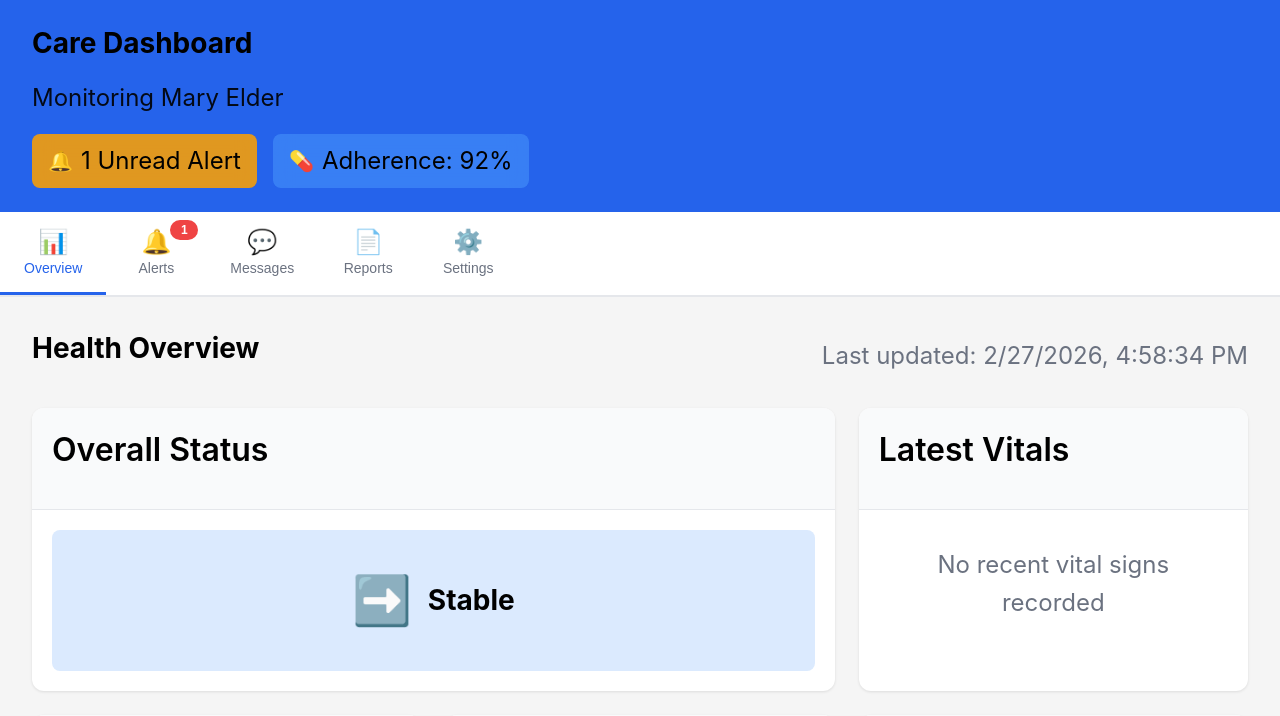
Test: SecondaryUserDashboard › renders all widget components based on active view
Expected: the heading "Health Overview" is shown, 32,329 -> 259,368
Switch to Alerts
Step 1. Click the tab "🔔 Alerts 1" → {"x": 156, "y": 254}, box 106,212 -> 206,295
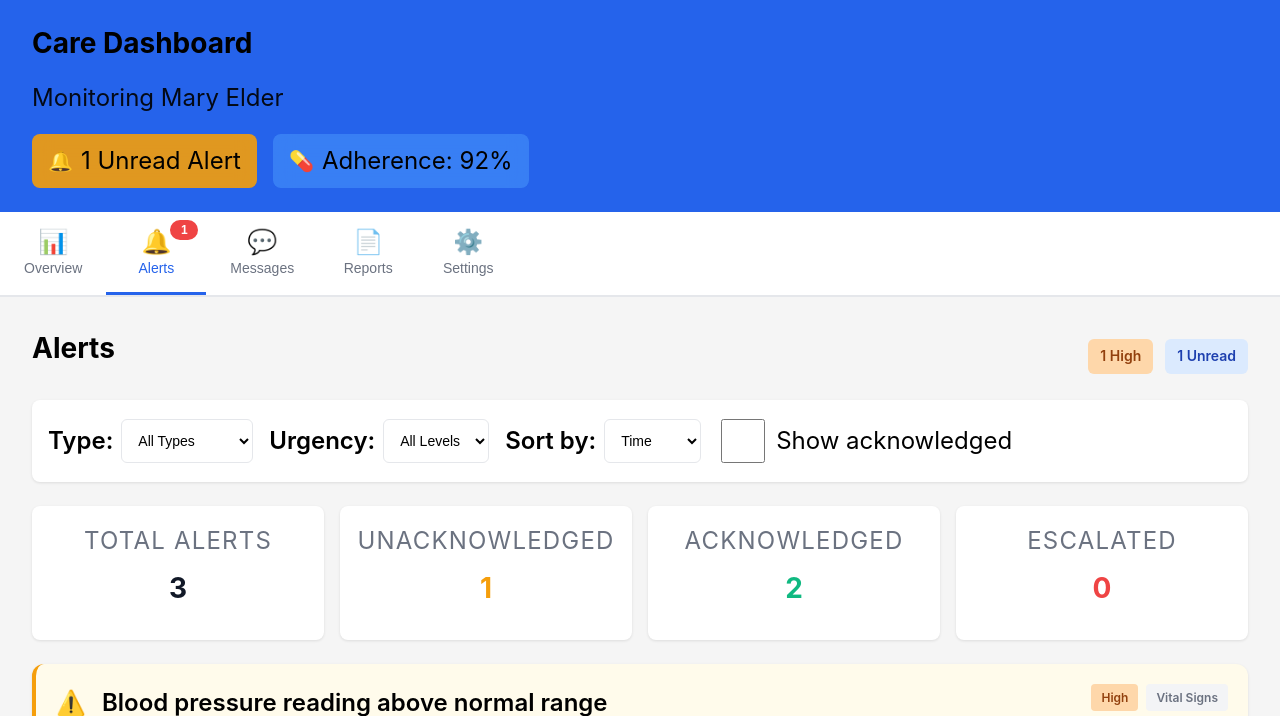
Expected: the heading "Alerts" is shown, 32,329 -> 115,368
Switch to Messages
Step 2. Click the tab "💬 Messages" → {"x": 262, "y": 254}, box 206,212 -> 318,295
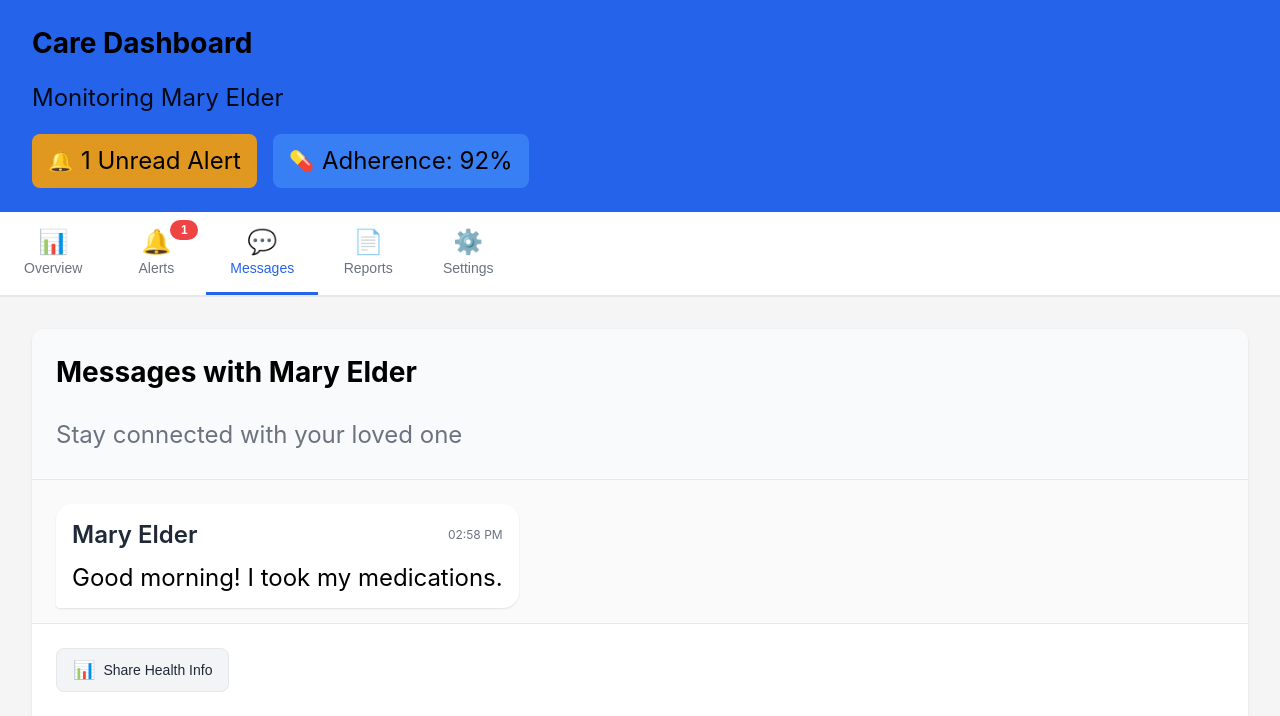
Expected: the heading "Messages with Mary Elder" is shown, 56,353 -> 417,392
Switch to Reports
Step 3. Click the tab "📄 Reports" → {"x": 368, "y": 254}, box 318,212 -> 418,295
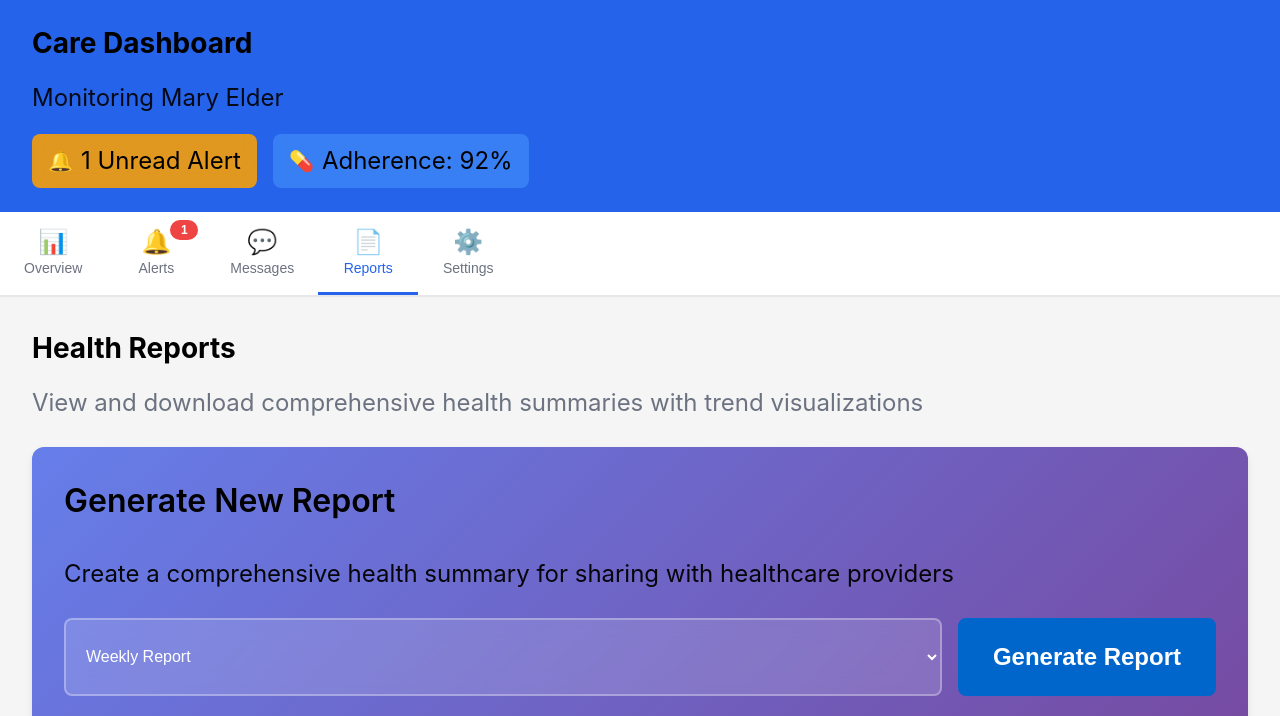
Expected: the heading "Health Reports" is shown, 32,331 -> 236,365
Switch to Settings
Step 4. Click the tab "⚙️ Settings" → {"x": 468, "y": 254}, box 418,212 -> 518,295
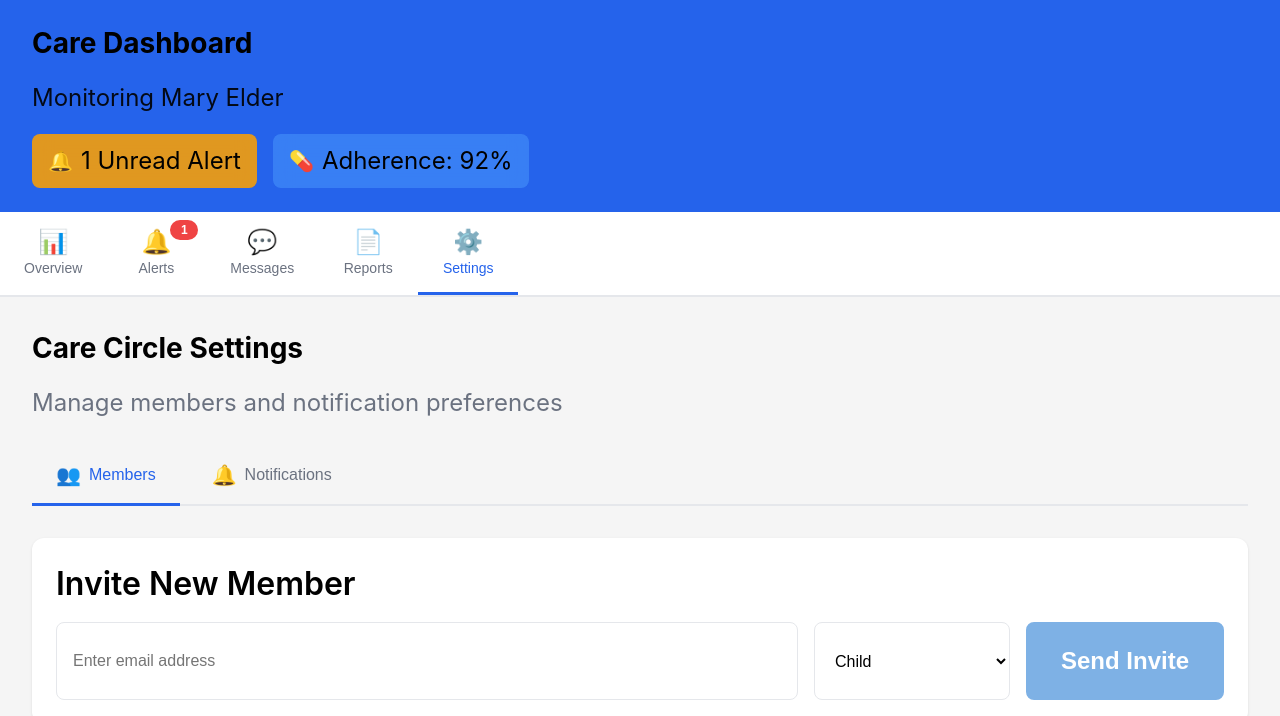
Expected: the heading "Care Circle Settings" is shown, 32,331 -> 303,365
